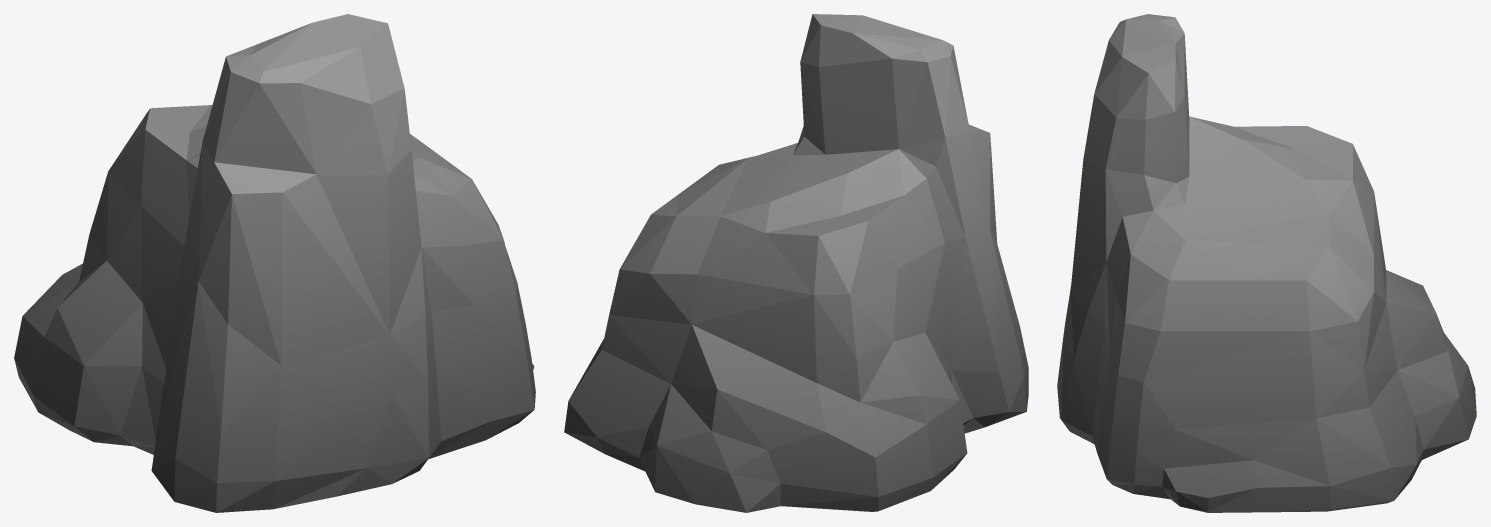
Rendered from Jungle_Cliff_A.fbx.
3 views of the same model, side by side, from view 1: azimuth 30°, elevation 25°; view 2: azimuth 150°, elevation 25°; view 3: azimuth 270°, elevation 25° (orthographic). The views are drawn at different scales.
Parts seen in each view (by area): view 1: Jungle_Cliff_A; view 2: Jungle_Cliff_A; view 3: Jungle_Cliff_A.
Part boxes in pixels (x1,y1,x2,y2): Jungle_Cliff_A: [14, 14, 535, 512]; Jungle_Cliff_A: [564, 14, 1028, 512]; Jungle_Cliff_A: [1057, 14, 1476, 512].
Size of the model in its own units: 26.82 by 26.12 by 26.36.
